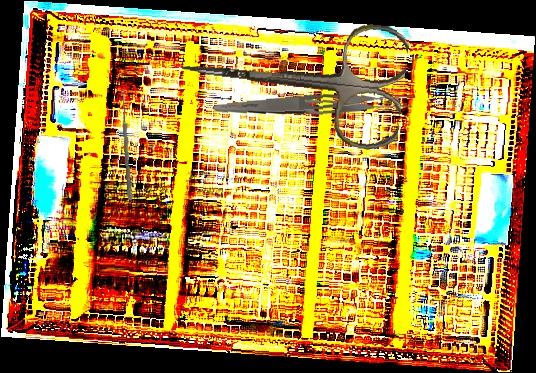Dressing Forceps: (211, 89, 416, 123)
Iris Scissors: (173, 1, 411, 155)
Surgical Spoon: (120, 88, 133, 201)
